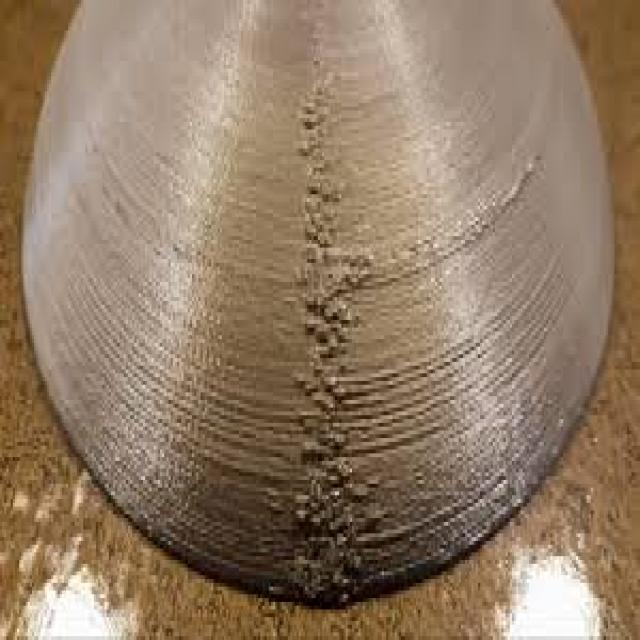blobs: (285, 60, 381, 611)
